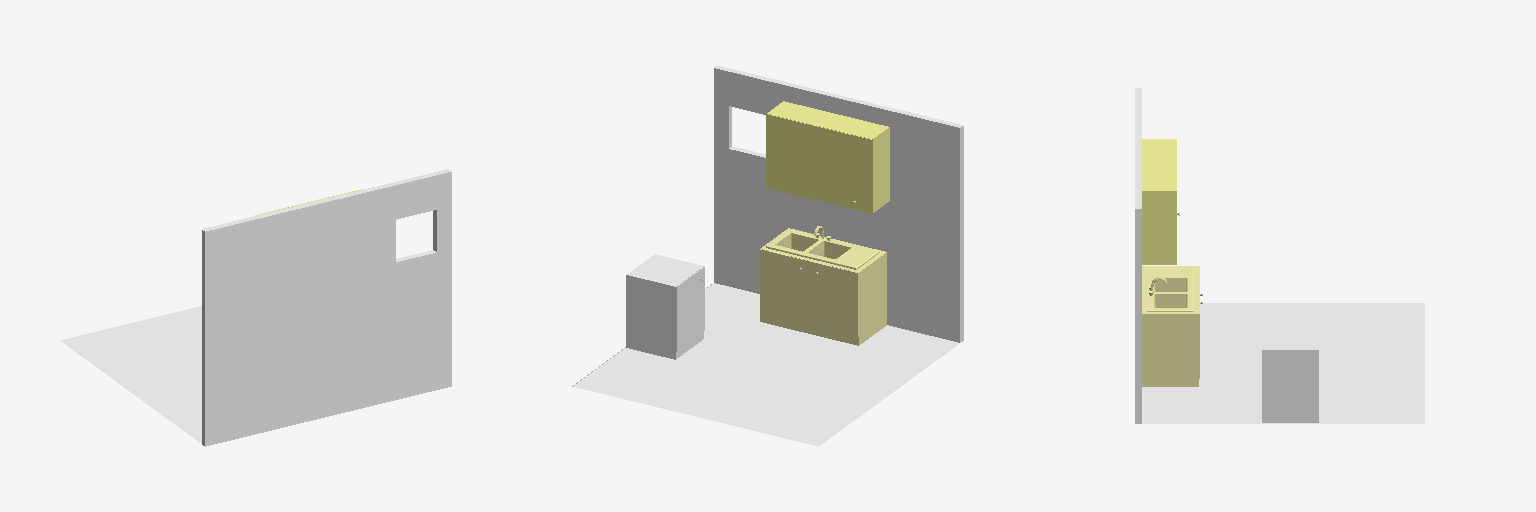
The model's file is CocinaDerecha.obj.
The picture shows the model from 3 angles: view 1: azimuth 30°, elevation 25°; view 2: azimuth 150°, elevation 25°; view 3: azimuth 270°, elevation 25°; orthographic projection.
Visible parts, largest first — view 1: wall_1_5, room_2_8; view 2: wall_1_4, room_2_8, sweethome3d_opening_on_hinge_1_door_28, Corps_31, Meuble_13, sweethome3d_opening_on_hinge_2_door_25, sweethome3d_opening_on_hinge_1_door_21, Corps_26, sweethome3d_opening_on_hinge_1_door_33, Evier_41_15, Evier_14; view 3: room_2_8, Corps_31, Meuble_13, Corps_26, Evier_41_15, Evier_14, wall_1_4, wall_1_5.
Boxes of the visible parts, box(x1,y1,x2,y2) form: wall_1_5: box(203, 172, 451, 446); room_2_8: box(60, 306, 201, 443); wall_1_4: box(714, 68, 961, 342); room_2_8: box(573, 283, 959, 446); sweethome3d_opening_on_hinge_1_door_28: box(766, 114, 871, 213); Corps_31: box(626, 254, 703, 359); Meuble_13: box(760, 228, 886, 345); sweethome3d_opening_on_hinge_2_door_25: box(809, 261, 858, 337); sweethome3d_opening_on_hinge_1_door_21: box(760, 249, 808, 325); Corps_26: box(767, 101, 889, 213); sweethome3d_opening_on_hinge_1_door_33: box(676, 266, 704, 351); Evier_41_15: box(766, 230, 879, 269); Evier_14: box(768, 229, 877, 266); room_2_8: box(1142, 303, 1424, 423); Corps_31: box(1262, 326, 1318, 422); Meuble_13: box(1142, 266, 1198, 386); Corps_26: box(1142, 139, 1175, 264); Evier_41_15: box(1147, 266, 1193, 311); Evier_14: box(1147, 266, 1192, 309); wall_1_4: box(1138, 209, 1141, 423); wall_1_5: box(1135, 209, 1137, 423).
Bounding box in the file's own units: 301 × 250 × 306.